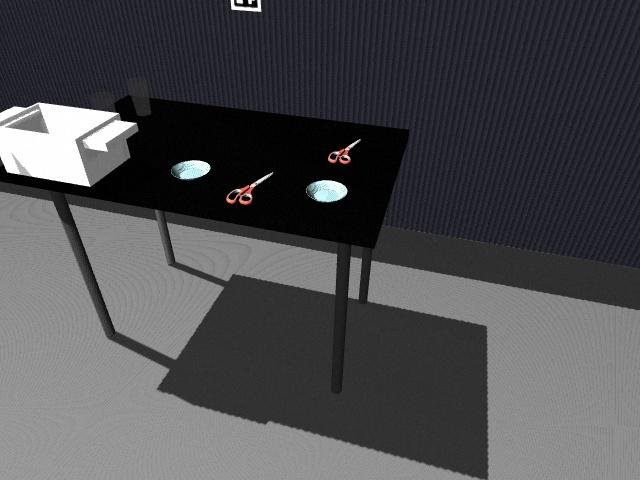cup: (126, 77, 151, 116), (88, 91, 117, 115)
plate: (305, 179, 351, 204), (171, 160, 211, 181)
scissors: (225, 171, 274, 206), (327, 139, 359, 165)
